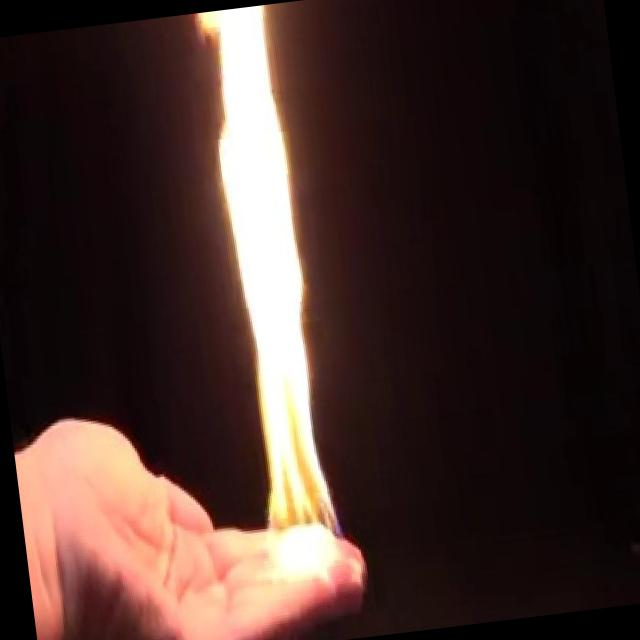Fire: (172, 0, 369, 592)
